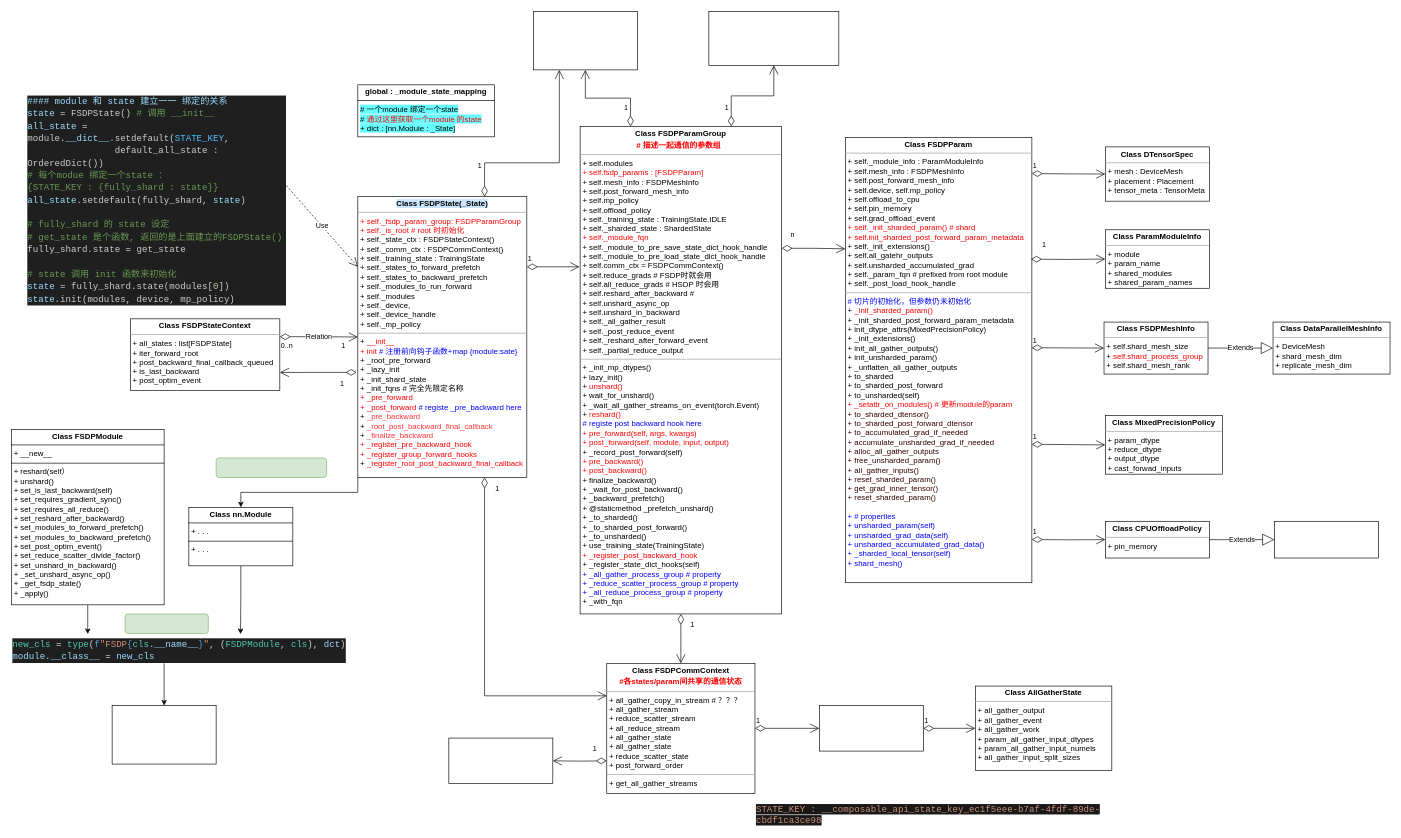
This 1401x838 diagram has some shape labels left out. Here are the shapes that lost their labels. From the top down, the centre of each, then its label:
(x=585, y=40): Class TrainingState(Enum) + FORWARD + PRE_BACKEARD + POST_BACKEARD + IDLE
(x=773, y=38): Class ShardedState(Enum) + SHARDED + SHARDED_POST_FORWARD + UNSHARDED
(x=271, y=467): module.__dict__["state_key"]
(x=1326, y=539): Class OfflaodPolicy + None # 无offload
(x=166, y=623): create new subclass
(x=163, y=734): Class FSDP???Wrapper + field: Type + method(): Type
(x=871, y=728): Class AllGatherState + AllGatherResult + torch.Event
(x=500, y=760): Class ReduceScatterState + reduce_scatter_input + torch.Event
